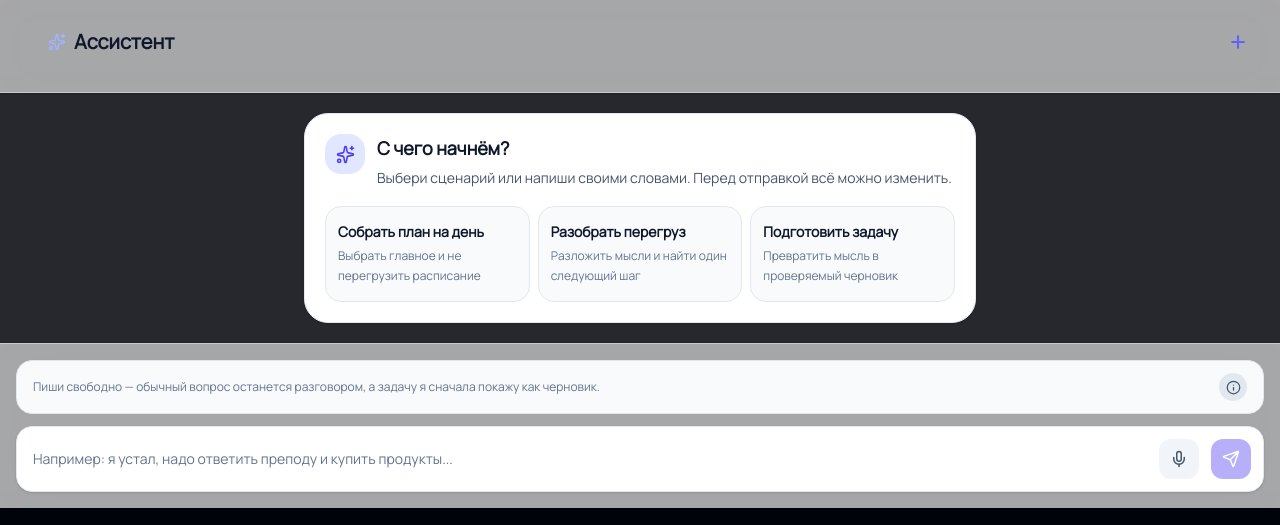
Test: MindHubChat › adds recognized Russian speech to the message draft without sending it
The image size is (1280, 525).
Later steps or results of the test are not shown.
Replace the text in the text box with placeholder "Например:" with "Нужно" at {"x": 588, "y": 459}, box [29,439,1147,479]
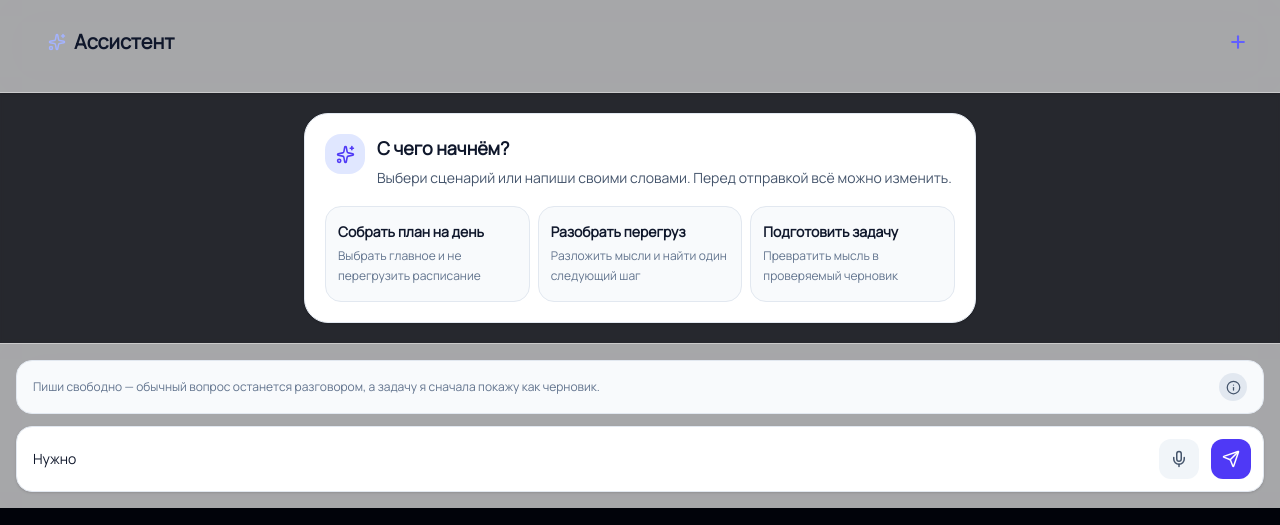
Click the button named "Начать голосовой ввод".
click(1179, 459)  # box [1159,439,1199,479]
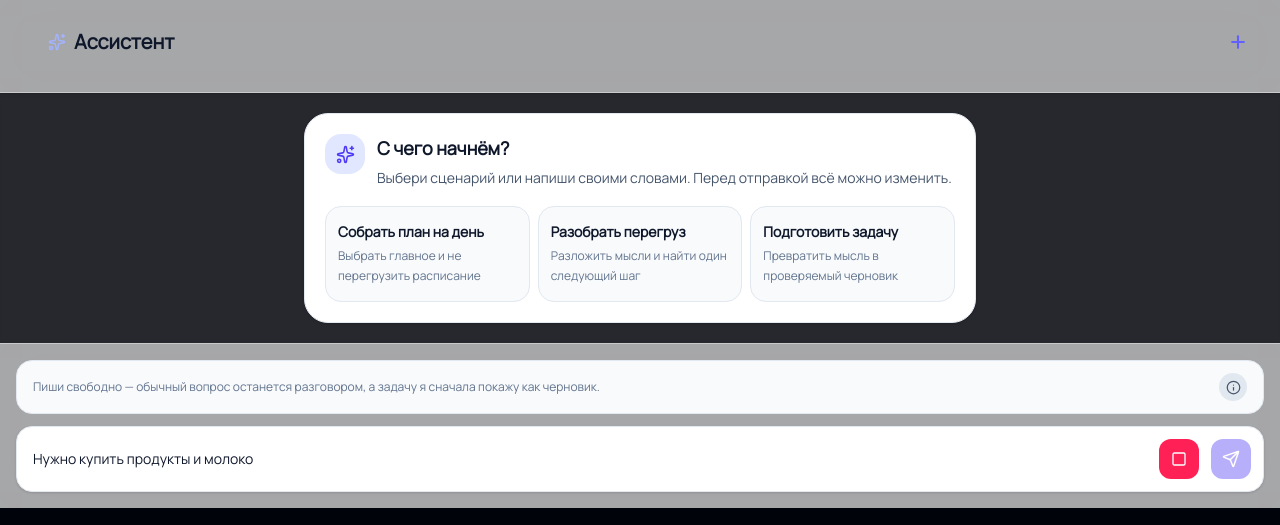
Expected: the button named "Остановить голосовой ввод" is shown
Expected: the text box with placeholder "Например:" holds "Нужно купить продукты и молоко", [29,439,1147,479]
Click the button named "Остановить голосовой ввод".
click(1179, 459)  # box [1159,439,1199,479]
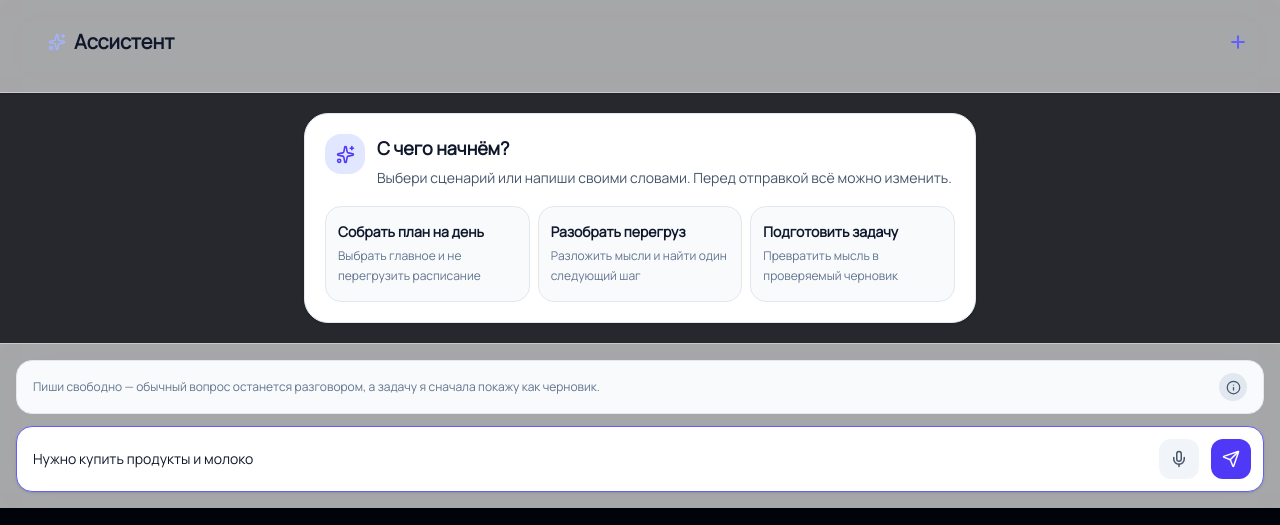
Expected: the text box with placeholder "Например:" holds "Нужно купить продукты и молоко", [29,439,1147,479]
